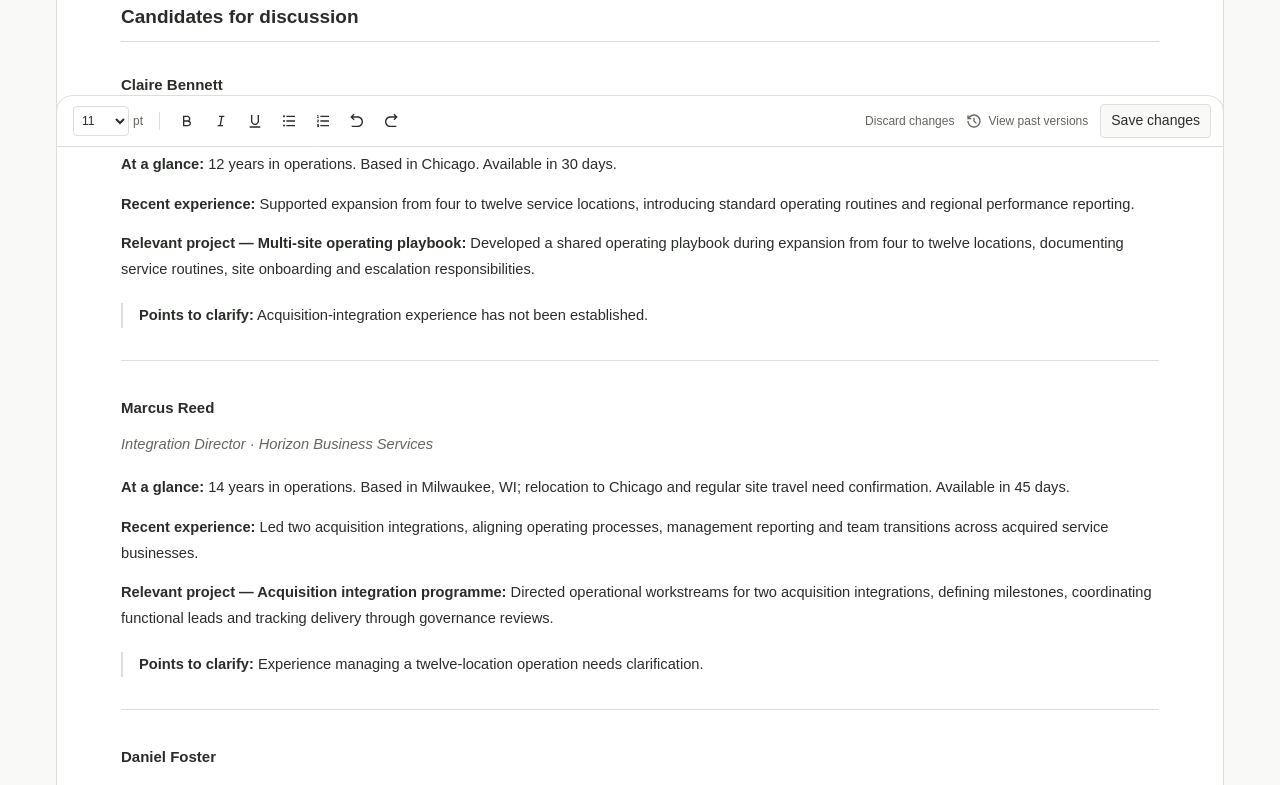
Test: inline discussion editor › edits, saves and reloads the whole document, including formatting and new notes
The image size is (1280, 785).
Earlier steps of the test are not shown.
Later steps or results of the test are not shown.
(page scrolled)
Click the button "Save changes" at (1156, 121), box [1100,104,1211,138]
(page scrolled)
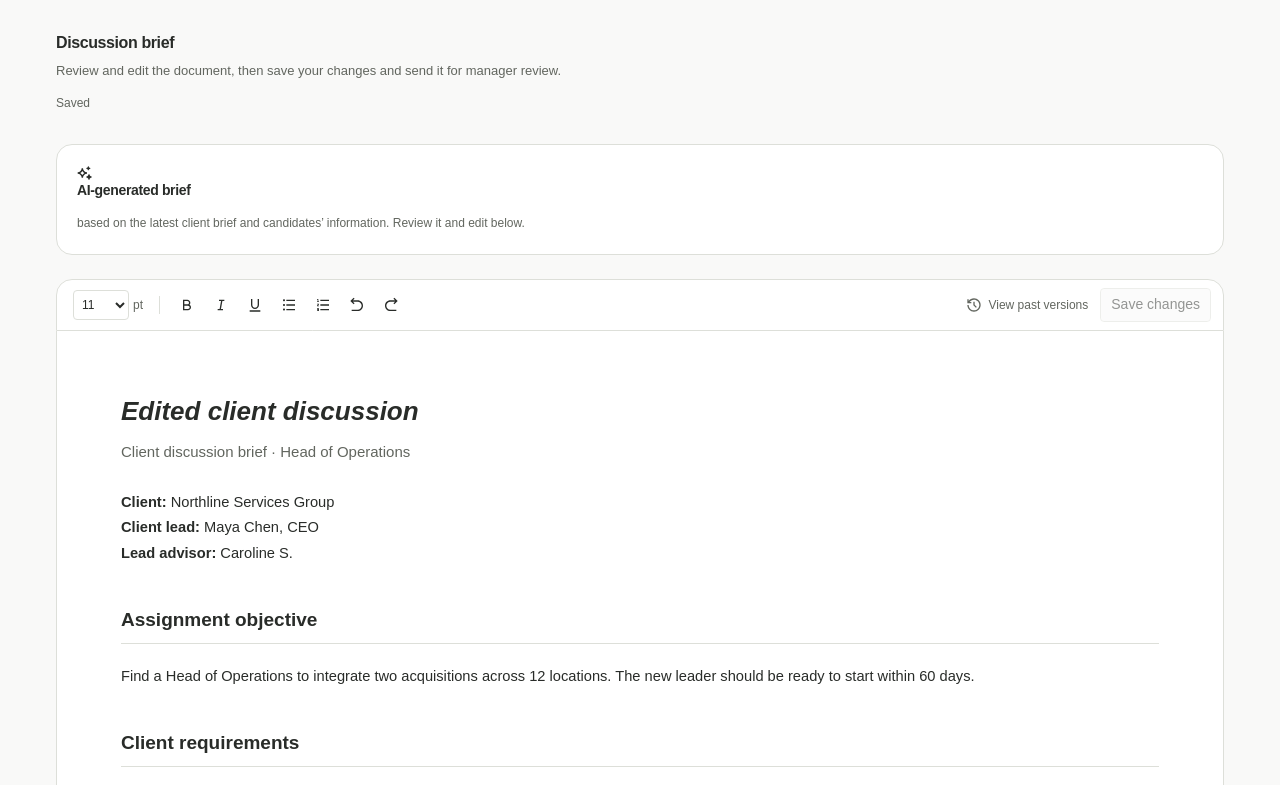
Expected: the message reads "Saved", [56,96,90,110]
